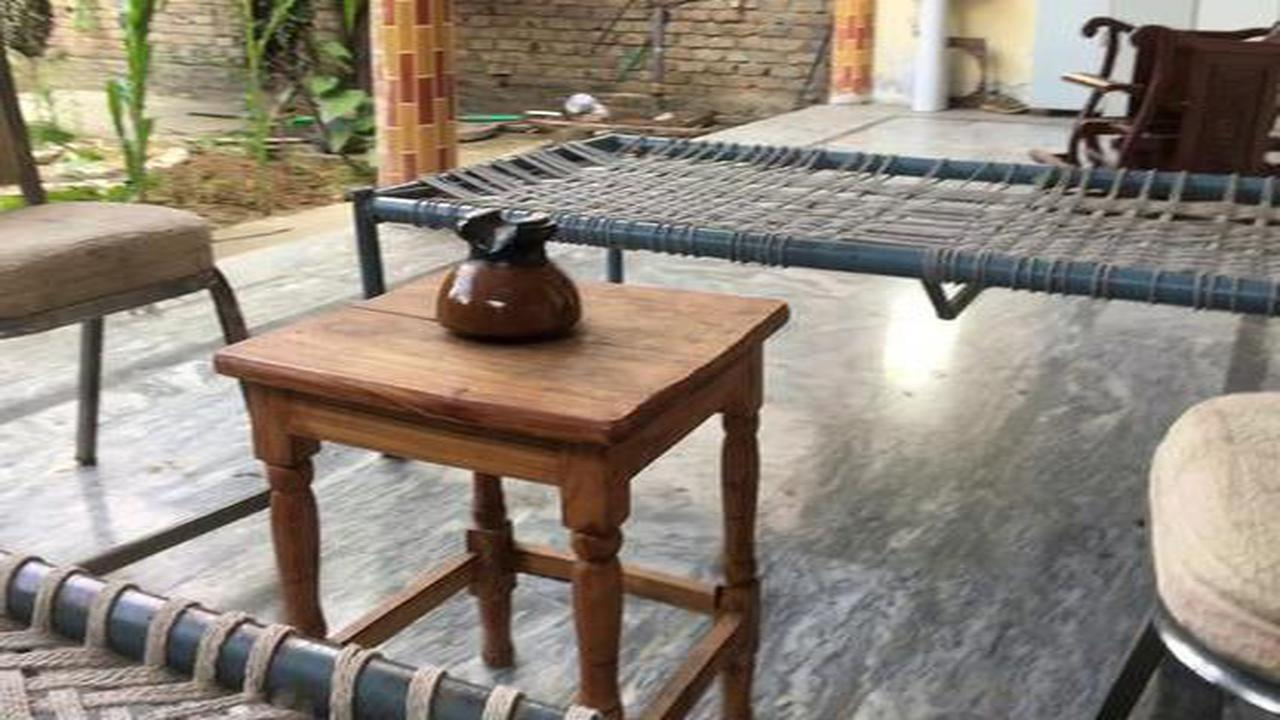insulator_pin: (413, 187, 597, 355)
